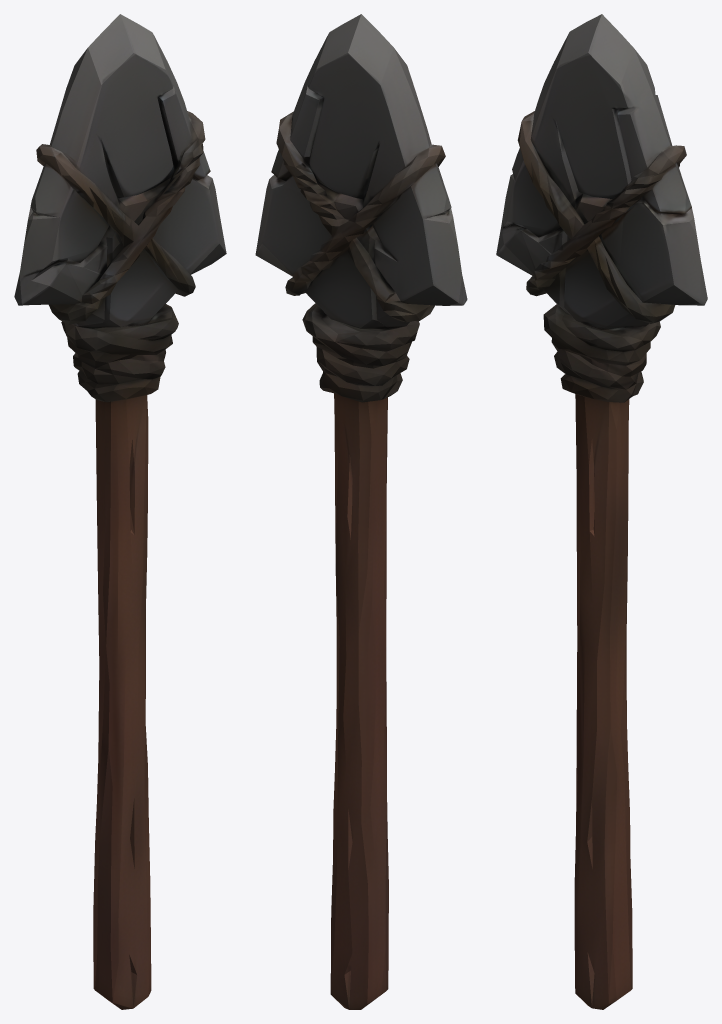
The model's file is base_basic_pbr.fbx.
3 views of the same model, side by side, from view 1: azimuth 30°, elevation 25°; view 2: azimuth 150°, elevation 25°; view 3: azimuth 330°, elevation 25° (orthographic).
Visible parts, largest first — view 1: model; view 2: model; view 3: model.
Boxes of the visible parts, left/top/right/bottom form: model: left=14, top=14, right=226, bottom=1009; model: left=255, top=14, right=467, bottom=1009; model: left=496, top=14, right=707, bottom=1009.
Size of the model in its own units: 38.06 by 175 by 15.46.
1 material, 1 textured.
